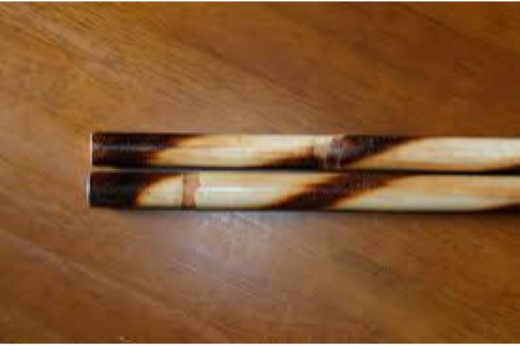baston_e: (96, 130, 517, 178), (95, 172, 511, 220)
baston_v: (69, 167, 187, 220), (75, 121, 192, 168)
